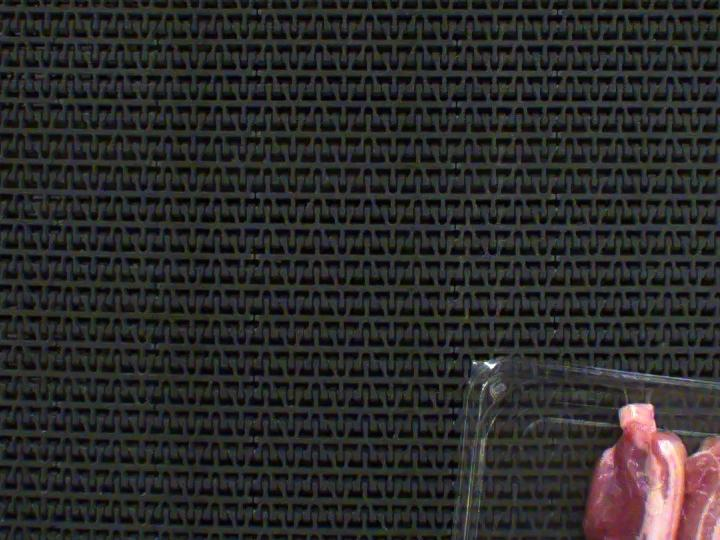packaging-error: (607, 382, 656, 406)
